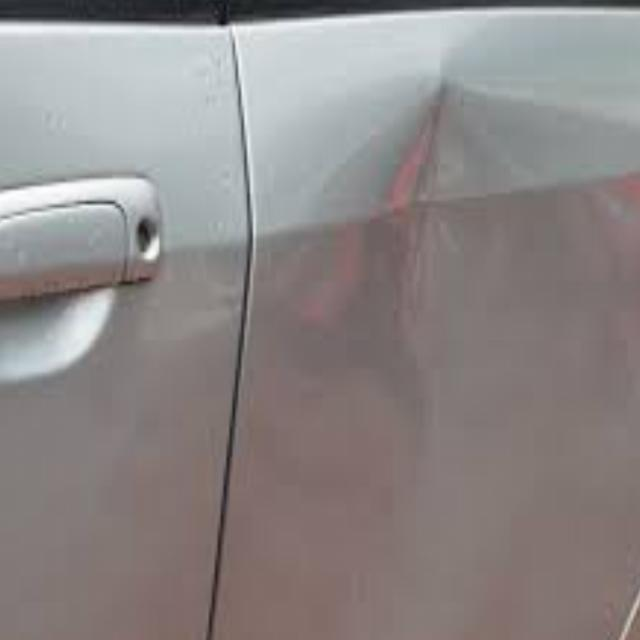dents: (390, 89, 461, 276)
